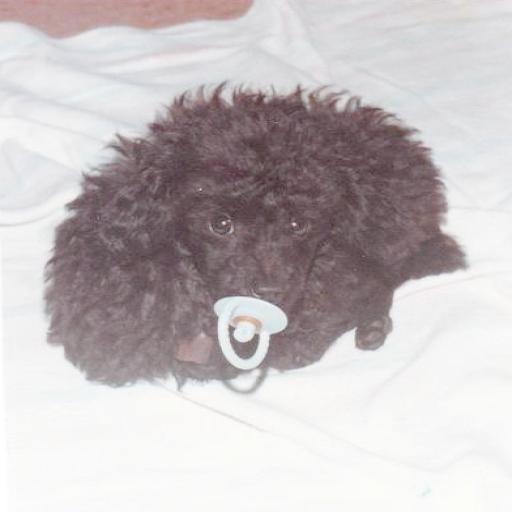dog_face: (31, 94, 439, 337)
